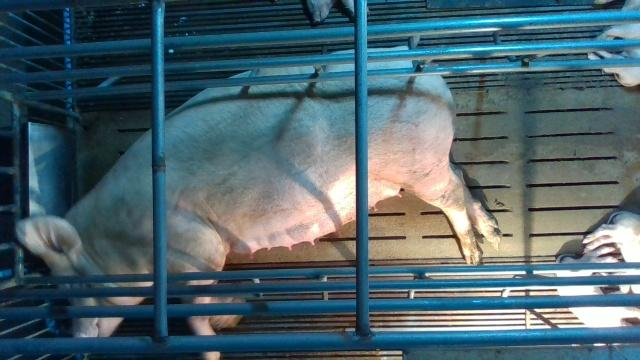piglet: (553, 253, 640, 328), (586, 0, 640, 86), (583, 212, 640, 293)
sow-sleep-lactate: (20, 46, 498, 360)
